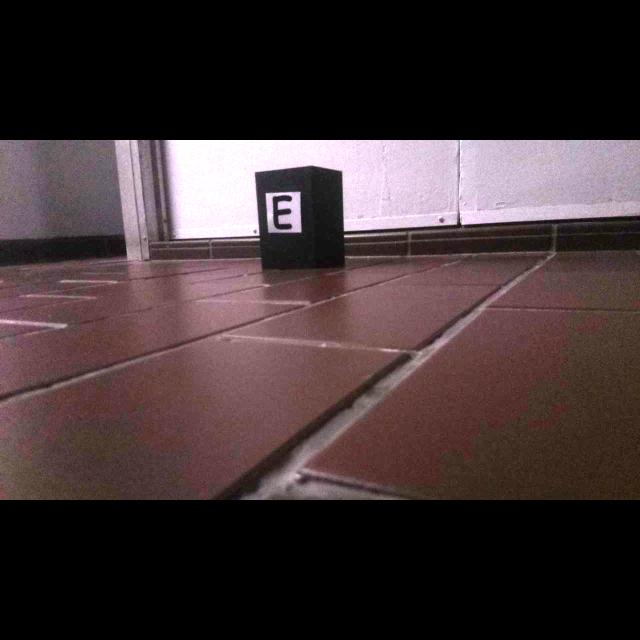E: (273, 195, 293, 230)
